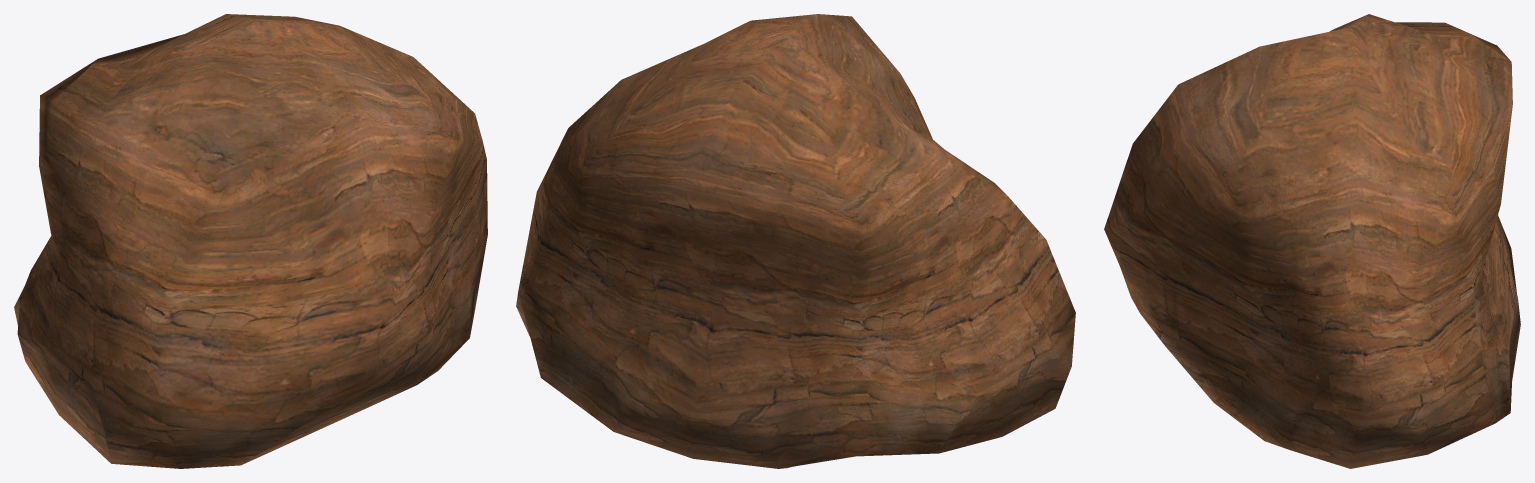
Rendered from rock_tatt_jundland_boulder_a4_l0.fbx.
The picture shows the model from 3 angles, left to right: view 1: azimuth 30°, elevation 25°; view 2: azimuth 150°, elevation 25°; view 3: azimuth 270°, elevation 25°; orthographic projection. The views are drawn at different scales.
Parts seen in each view (by area): view 1: mesh_node; view 2: mesh_node; view 3: mesh_node.
Part boxes in pixels (x1,y1,x2,y2): mesh_node: [14, 14, 487, 468]; mesh_node: [516, 14, 1075, 468]; mesh_node: [1104, 14, 1520, 468].
Size of the model in its own units: 2.7 by 2.11 by 2.16.
